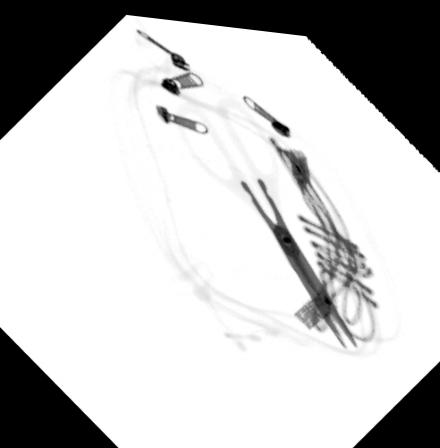Scissors: (167, 87, 360, 341)
